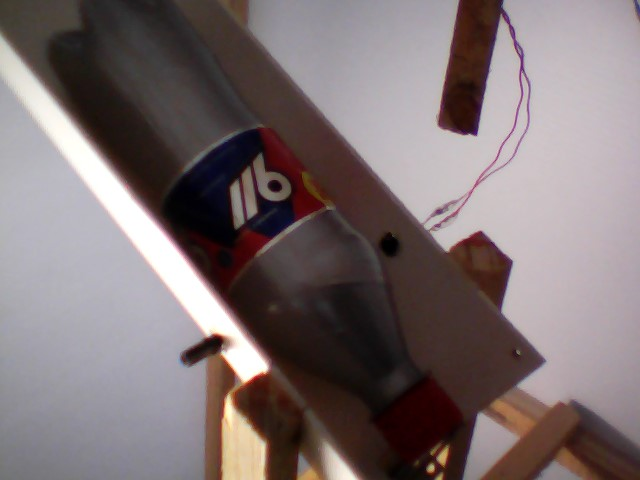plastico: (33, 1, 472, 460)
